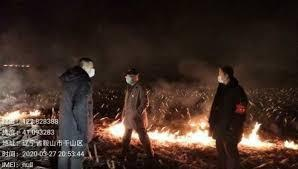fire: (97, 115, 214, 145), (238, 120, 293, 150)
